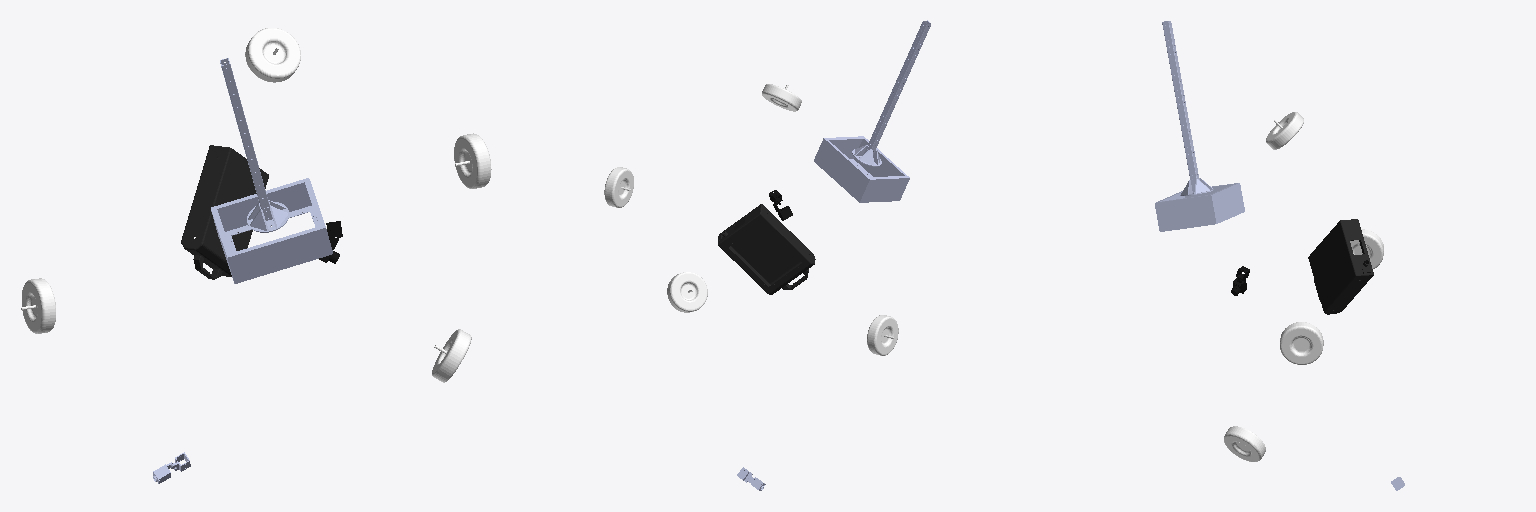
URDF robot description (MMp30-Main-assembly):
<?xml version="1.0" encoding="utf-8"?>
<!-- This URDF was automatically created by SolidWorks to URDF Exporter! Originally created by [author] ([email redacted]) 
     Commit Version: 1.5.0-0-g9aa0fdb  Build Version: 1.5.7004.21443
     For more information, please see http://wiki.ros.org/sw_urdf_exporter -->
<robot
  name="MMp30-Main-assembly">
  <link
    name="base_link">
    <inertial>
      <origin
        xyz="0.391529630826499 -0.659727338387903 -0.351386172643972"
        rpy="0 0 0" />
      <mass
        value="1.26289752443047" />
      <inertia
        ixx="0.0347854443723428"
        ixy="-0.00685724592425898"
        ixz="0.00982512796425842"
        iyy="0.0279621426892089"
        iyz="0.00691218435417197"
        izz="0.0468811126134757" />
    </inertial>
    <visual>
      <origin
        xyz="0 0 0"
        rpy="0 0 0" />
      <geometry>
        <mesh
          filename="package://MMp30-Main-assembly/meshes/base_link.STL" />
      </geometry>
      <material
        name="">
        <color
          rgba="0.196078431372549 0.196078431372549 0.196078431372549 1" />
      </material>
    </visual>
    <collision>
      <origin
        xyz="0 0 0"
        rpy="0 0 0" />
      <geometry>
        <mesh
          filename="package://MMp30-Main-assembly/meshes/base_link.STL" />
      </geometry>
    </collision>
  </link>
  <link
    name="FRightWheel">
    <inertial>
      <origin
        xyz="-0.0012528 2.2204E-16 8.3267E-17"
        rpy="0 0 0" />
      <mass
        value="0.32178" />
      <inertia
        ixx="0.0025647"
        ixy="9.6206E-18"
        ixz="4.0658E-19"
        iyy="0.0014999"
        iyz="-4.4859E-18"
        izz="0.0014999" />
    </inertial>
    <visual>
      <origin
        xyz="0 0 0"
        rpy="0 0 0" />
      <geometry>
        <mesh
          filename="package://MMp30-Main-assembly/meshes/FRightWheel.STL" />
      </geometry>
      <material
        name="">
        <color
          rgba="1 1 1 1" />
      </material>
    </visual>
    <collision>
      <origin
        xyz="0 0 0"
        rpy="0 0 0" />
      <geometry>
        <mesh
          filename="package://MMp30-Main-assembly/meshes/FRightWheel.STL" />
      </geometry>
    </collision>
  </link>
  <joint
    name="RRightWheelJoint"
    type="revolute">
    <origin
      xyz="0.45798 0.34866 -0.91807"
      rpy="-1.3846 0.71402 0.34443" />
    <parent
      link="base_link" />
    <child
      link="FRightWheel" />
    <axis
      xyz="0 0 0" />
    <limit
      lower="0"
      upper="0"
      effort="0"
      velocity="0" />
    <safety_controller
      k_velocity="0" />
  </joint>
  <link
    name="FLeftWheel">
    <inertial>
      <origin
        xyz="-0.0012528 -5.5511E-17 -1.1102E-16"
        rpy="0 0 0" />
      <mass
        value="0.32178" />
      <inertia
        ixx="0.0025647"
        ixy="7.3184E-18"
        ixz="-9.7578E-19"
        iyy="0.0014999"
        iyz="-4.0658E-18"
        izz="0.0014999" />
    </inertial>
    <visual>
      <origin
        xyz="0 0 0"
        rpy="0 0 0" />
      <geometry>
        <mesh
          filename="package://MMp30-Main-assembly/meshes/FLeftWheel.STL" />
      </geometry>
      <material
        name="">
        <color
          rgba="1 1 1 1" />
      </material>
    </visual>
    <collision>
      <origin
        xyz="0 0 0"
        rpy="0 0 0" />
      <geometry>
        <mesh
          filename="package://MMp30-Main-assembly/meshes/FLeftWheel.STL" />
      </geometry>
    </collision>
  </link>
  <joint
    name="FRightWheel_Joint"
    type="revolute">
    <origin
      xyz="0.14978 0.23811 -0.63433"
      rpy="0.53057 -0.71402 -2.7972" />
    <parent
      link="base_link" />
    <child
      link="FLeftWheel" />
    <axis
      xyz="0 0 0" />
    <limit
      lower="0"
      upper="0"
      effort="0"
      velocity="0" />
    <safety_controller
      k_velocity="0" />
  </joint>
  <link
    name="RLeftWheel">
    <inertial>
      <origin
        xyz="-0.0012528 0 -5.5511E-17"
        rpy="0 0 0" />
      <mass
        value="0.32178" />
      <inertia
        ixx="0.0025647"
        ixy="5.421E-19"
        ixz="7.3997E-18"
        iyy="0.0014999"
        iyz="4.5265E-18"
        izz="0.0014999" />
    </inertial>
    <visual>
      <origin
        xyz="0 0 0"
        rpy="0 0 0" />
      <geometry>
        <mesh
          filename="package://MMp30-Main-assembly/meshes/RLeftWheel.STL" />
      </geometry>
      <material
        name="">
        <color
          rgba="1 1 1 1" />
      </material>
    </visual>
    <collision>
      <origin
        xyz="0 0 0"
        rpy="0 0 0" />
      <geometry>
        <mesh
          filename="package://MMp30-Main-assembly/meshes/RLeftWheel.STL" />
      </geometry>
    </collision>
  </link>
  <joint
    name="RLeftWheel_Joint"
    type="revolute">
    <origin
      xyz="0.3438 0.37567 -0.36998"
      rpy="-3.0125 -0.71402 -2.7972" />
    <parent
      link="base_link" />
    <child
      link="RLeftWheel" />
    <axis
      xyz="0 0 0" />
    <limit
      lower="0"
      upper="0"
      effort="0"
      velocity="0" />
    <safety_controller
      k_velocity="0" />
  </joint>
  <link
    name="RRightWheel">
    <inertial>
      <origin
        xyz="-0.0012528 8.3267E-17 -1.6653E-16"
        rpy="0 0 0" />
      <mass
        value="0.32178" />
      <inertia
        ixx="0.0025647"
        ixy="-6.3426E-18"
        ixz="-1.8974E-18"
        iyy="0.0014999"
        iyz="-8.1315E-19"
        izz="0.0014999" />
    </inertial>
    <visual>
      <origin
        xyz="0 0 0"
        rpy="0 0 0" />
      <geometry>
        <mesh
          filename="package://MMp30-Main-assembly/meshes/RRightWheel.STL" />
      </geometry>
      <material
        name="">
        <color
          rgba="1 1 1 1" />
      </material>
    </visual>
    <collision>
      <origin
        xyz="0 0 0"
        rpy="0 0 0" />
      <geometry>
        <mesh
          filename="package://MMp30-Main-assembly/meshes/RRightWheel.STL" />
      </geometry>
    </collision>
  </link>
  <joint
    name="RRightWheel_Joint"
    type="revolute">
    <origin
      xyz="0.652 0.48623 -0.65371"
      rpy="-0.28741 0.71402 0.34443" />
    <parent
      link="base_link" />
    <child
      link="RRightWheel" />
    <axis
      xyz="0 0 0" />
    <limit
      lower="0"
      upper="0"
      effort="0"
      velocity="0" />
    <safety_controller
      k_velocity="0" />
  </joint>


  <link
    name="SensorBaseChassis">
    <inertial>
      <origin
        xyz="0.1287 0.21758 -0.001018"
        rpy="0 0 0" />
      <mass
        value="1.7565" />
      <inertia
        ixx="0.046345"
        ixy="-0.00014939"
        ixz="1.1248E-08"
        iyy="0.042797"
        iyz="5.3201E-07"
        izz="0.055575" />
    </inertial>
    <visual>
      <origin
        xyz="0 0 0"
        rpy="0 0 0" />
      <geometry>
        <mesh
          filename="package://MMp30-Main-assembly/meshes/SensorBaseChassis.STL" />
      </geometry>
      <material
        name="">
        <color
          rgba="0.79216 0.81961 0.93333 1" />
      </material>
    </visual>
    <collision>
      <origin
        xyz="0 0 0"
        rpy="0 0 0" />
      <geometry>
        <mesh
          filename="package://MMp30-Main-assembly/meshes/SensorBaseChassis.STL" />
      </geometry>
    </collision>
  </link>





  <joint
    name="Chassis_Joint"
    type="fixed">
    <origin
      xyz="0.45148 0.47401 -0.54701"
      rpy="-2.9369 0.83814 -2.5248" />
    <parent
      link="base_link" />
    <child
      link="SensorBaseChassis" />
    <axis
      xyz="0 0 0" />
    <safety_controller
      k_velocity="0" />
  </joint>





  
  <link
    name="RGBCamera">
    <inertial>
      <origin
        xyz="0.0019487 0.058307 -0.011581"
        rpy="0 0 0" />
      <mass
        value="0.18743" />
      <inertia
        ixx="0.00011868"
        ixy="3.2052E-06"
        ixz="1.6118E-06"
        iyy="7.4376E-05"
        iyz="-6.432E-06"
        izz="0.00012565" />
    </inertial>
    <visual>
      <origin
        xyz="0 0 0"
        rpy="0 0 0" />
      <geometry>
        <mesh
          filename="package://MMp30-Main-assembly/meshes/RGBCamera.STL" />
      </geometry>
      <material
        name="">
        <color
          rgba="0.79216 0.81961 0.93333 1" />
      </material>
    </visual>
    <collision>
      <origin
        xyz="0 0 0"
        rpy="0 0 0" />
      <geometry>
        <mesh
          filename="package://MMp30-Main-assembly/meshes/RGBCamera.STL" />
      </geometry>
    </collision>
  </link>
  <joint
    name="RGBCamera_Joint"
    type="prismatic">
    <origin
      xyz="0.26182 0.53688 -0.011936"
      rpy="3.1384 0 -1.5708" />
    <parent
      link="SensorBaseChassis" />
    <child
      link="RGBCamera" />
    <axis
      xyz="0 0 0" />
    <limit
      lower="0"
      upper="0"
      effort="0"
      velocity="0" />
    <safety_controller
      k_velocity="0" />
  </joint>
  <link
    name="Hokuyo">
    <inertial>
      <origin
        xyz="0.0046748 0.021646 0.02003"
        rpy="0 0 0" />
      <mass
        value="0.27035" />
      <inertia
        ixx="0.00020482"
        ixy="-1.9607E-05"
        ixz="-4.3458E-06"
        iyy="0.00016186"
        iyz="-5.067E-06"
        izz="0.00019753" />
    </inertial>
    <visual>
      <origin
        xyz="0 0 0"
        rpy="0 0 0" />
      <geometry>
        <mesh
          filename="package://MMp30-Main-assembly/meshes/Hokuyo.STL" />
      </geometry>
      <material
        name="">
        <color
          rgba="0.11373 0.11373 0.11373 1" />
      </material>
    </visual>
    <collision>
      <origin
        xyz="0 0 0"
        rpy="0 0 0" />
      <geometry>
        <mesh
          filename="package://MMp30-Main-assembly/meshes/Hokuyo.STL" />
      </geometry>
    </collision>
  </link>
  <joint
    name="HokuyoJoint"
    type="prismatic">
    <origin
      xyz="0.2185 0.74203 0.013193"
      rpy="2.0285 1.5679 2.9688" />
    <parent
      link="SensorBaseChassis" />
    <child
      link="Hokuyo" />
    <axis
      xyz="0 0 0" />
    <limit
      lower="0"
      upper="0"
      effort="0"
      velocity="0" />
    <safety_controller
      k_velocity="0" />
  </joint>
</robot>

--- Facts derived from the render (not from the file) ---
3 views of the same robot in one strip: view 1: azimuth 30°, elevation 25°; view 2: azimuth 150°, elevation 25°; view 3: azimuth 270°, elevation 25° (orthographic).
Model MMp30-Main-assembly with 8 links and 7 joints (4 revolute, 2 prismatic, 1 fixed), rooted at base_link, posed every joint at zero.
Visible links, largest first — view 1: SensorBaseChassis, base_link, RLeftWheel, FRightWheel, FLeftWheel, RRightWheel; view 2: SensorBaseChassis, base_link, RRightWheel, FLeftWheel, FRightWheel, RLeftWheel; view 3: SensorBaseChassis, base_link, FRightWheel, RRightWheel, RLeftWheel, FLeftWheel.
Boxes of the visible links, x1=… form: SensorBaseChassis: x1=211, y1=58, x2=332, y2=283; base_link: x1=181, y1=145, x2=268, y2=279; RLeftWheel: x1=245, y1=28, x2=300, y2=82; FRightWheel: x1=454, y1=133, x2=491, y2=188; FLeftWheel: x1=21, y1=278, x2=55, y2=333; RRightWheel: x1=432, y1=329, x2=471, y2=382; SensorBaseChassis: x1=814, y1=20, x2=930, y2=202; base_link: x1=718, y1=204, x2=815, y2=294; RRightWheel: x1=667, y1=272, x2=707, y2=312; FLeftWheel: x1=867, y1=315, x2=898, y2=355; FRightWheel: x1=604, y1=167, x2=633, y2=207; RLeftWheel: x1=762, y1=84, x2=801, y2=111; SensorBaseChassis: x1=1155, y1=21, x2=1244, y2=231; base_link: x1=1308, y1=219, x2=1373, y2=314; FRightWheel: x1=1280, y1=322, x2=1323, y2=364; RRightWheel: x1=1224, y1=426, x2=1265, y2=461; RLeftWheel: x1=1266, y1=112, x2=1303, y2=149; FLeftWheel: x1=1350, y1=229, x2=1383, y2=268.
Bounding box of the posed robot: 2.02 × 1.31 × 2.53 m (x, y, z).
8 mesh visuals loaded from 8 distinct referenced files (8 binary STL).